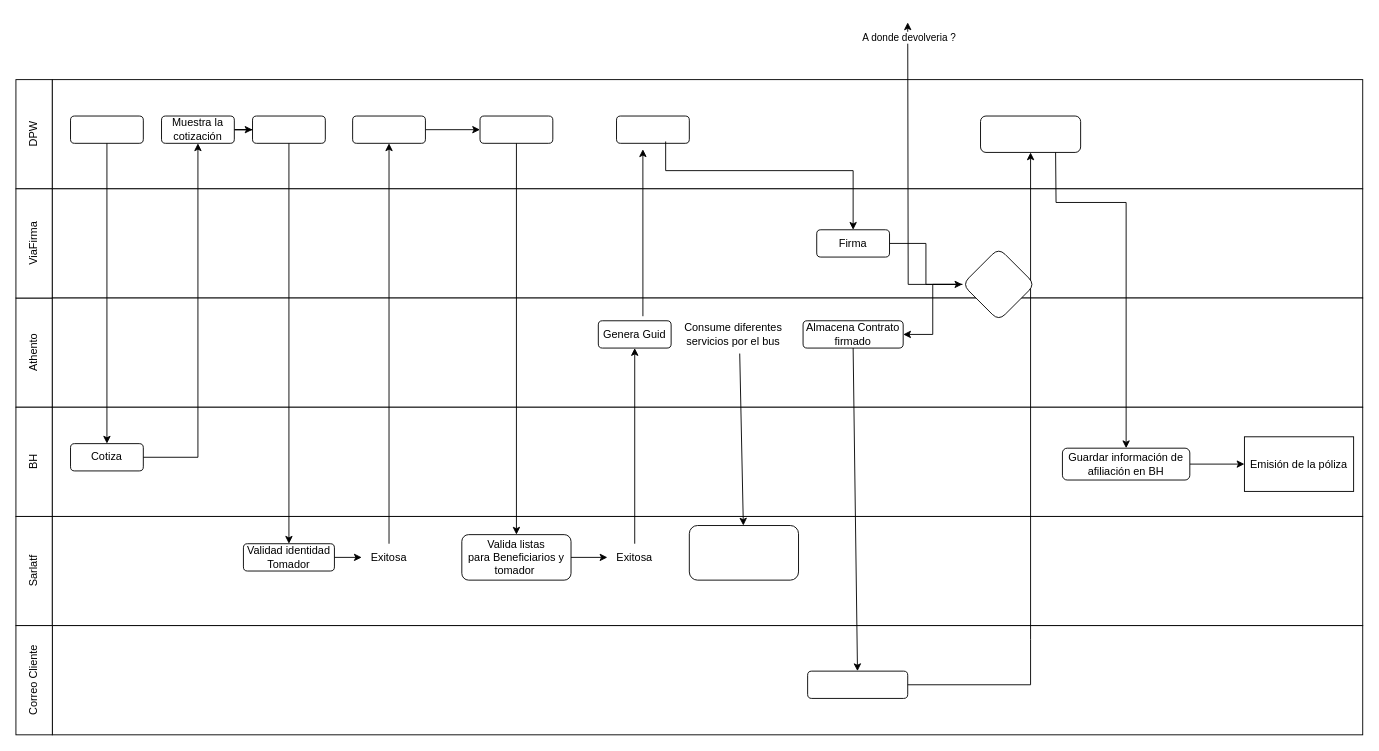
Some shapes in this 1379 by 751 pixel diagram are drawn without their labels. Each missing label, with the centre of its shape:
Afiliación: (x=288, y=129)
Almacena beneficiarios y tomador: (x=743, y=552)
Confirmación de documento firmado: (x=1030, y=133)
Correo al cliente con archivo adjunto: (x=857, y=684)
Embebido ViaFirma: (x=652, y=129)
Incluye beneficiario: (x=388, y=129)
Muestra el Resumen: (x=516, y=129)
Solicitud de cotización: (x=106, y=129)
